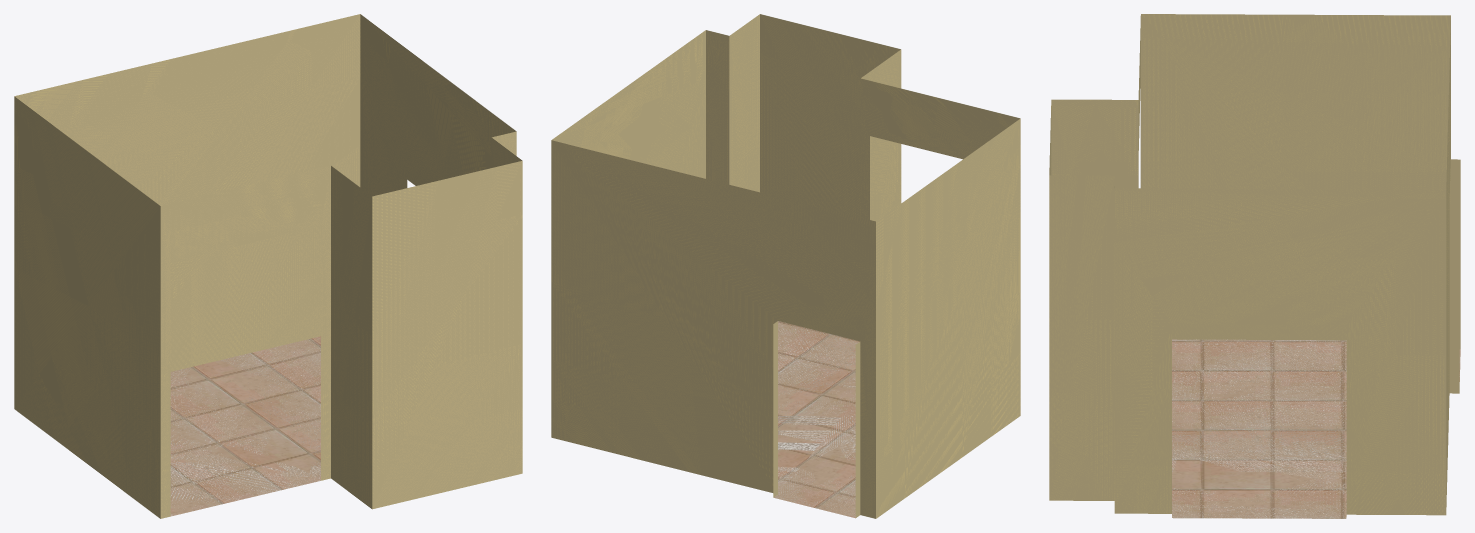
File: COM016.obj
3 views of the same model, side by side, from view 1: azimuth 30°, elevation 25°; view 2: azimuth 150°, elevation 25°; view 3: azimuth 270°, elevation 25° (orthographic). The views are drawn at different scales.
Visible parts, largest first — view 1: Mesh1 COM016 Model; view 2: Mesh1 COM016 Model; view 3: Mesh1 COM016 Model.
Part boxes in pixels (<box>): Mesh1 COM016 Model: <box>14,14,522,518</box>; Mesh1 COM016 Model: <box>551,14,1020,518</box>; Mesh1 COM016 Model: <box>1049,14,1460,518</box>.
Bounding box in the file's own units: 4.26 × 3.6 × 4.13.
4 materials, 2 textured.
